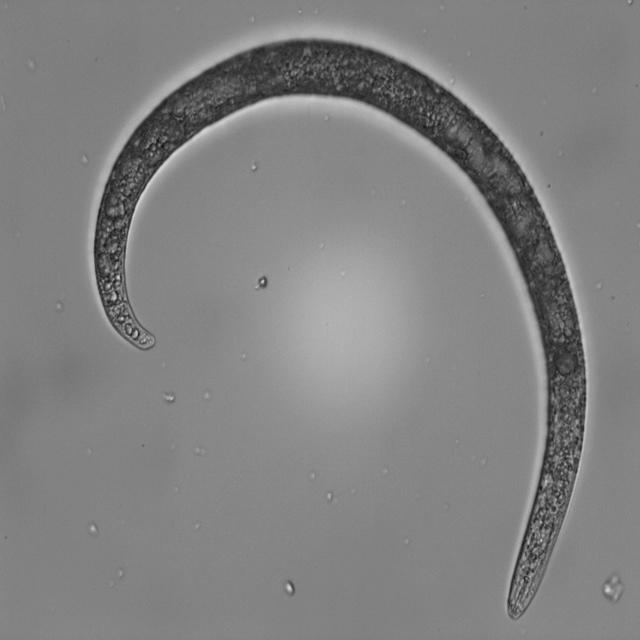Helicotylenchus: (78, 31, 595, 624)
